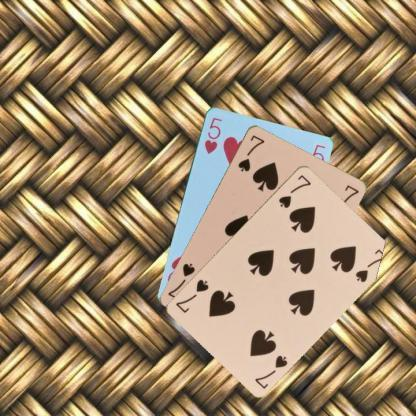5h: (202, 114, 224, 155)
7s: (252, 352, 289, 390), (276, 172, 312, 209), (235, 132, 266, 172)
